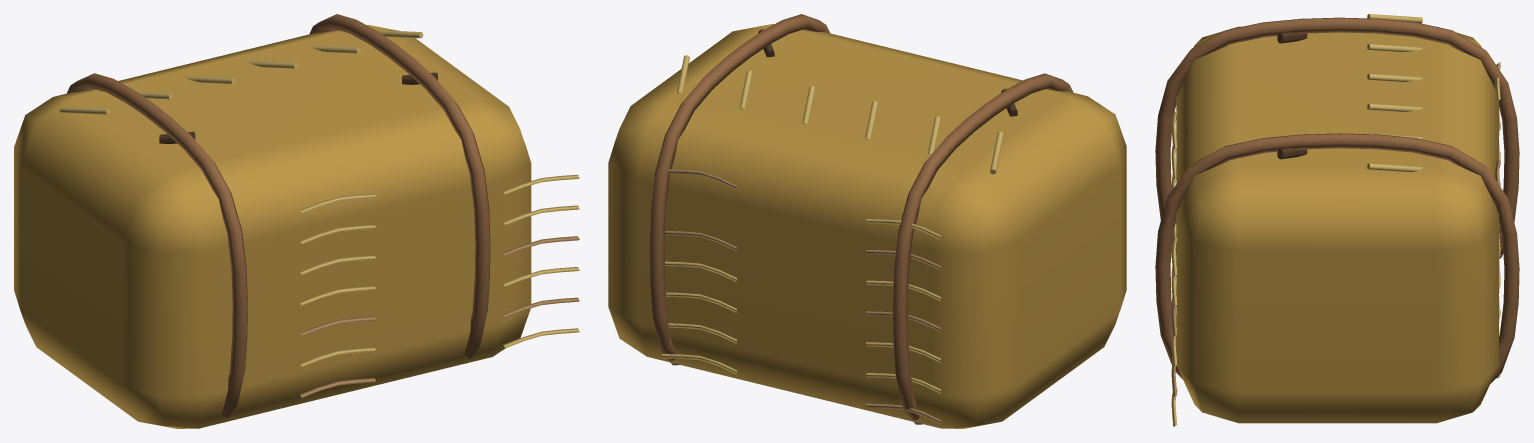
File: paca_heno.glb
The picture shows the model from 3 angles, left to right: view 1: azimuth 30°, elevation 25°; view 2: azimuth 150°, elevation 25°; view 3: azimuth 270°, elevation 25°; orthographic projection. The views are drawn at different scales.
Parts seen in each view (by area): view 1: paca_heno; view 2: paca_heno; view 3: paca_heno.
Part boxes in pixels (<box>): paca_heno: <box>14,14,579,428</box>; paca_heno: <box>608,14,1126,428</box>; paca_heno: <box>1155,14,1519,426</box>.
Size of the model in its own units: 1.09 by 0.6878 by 0.8241.
